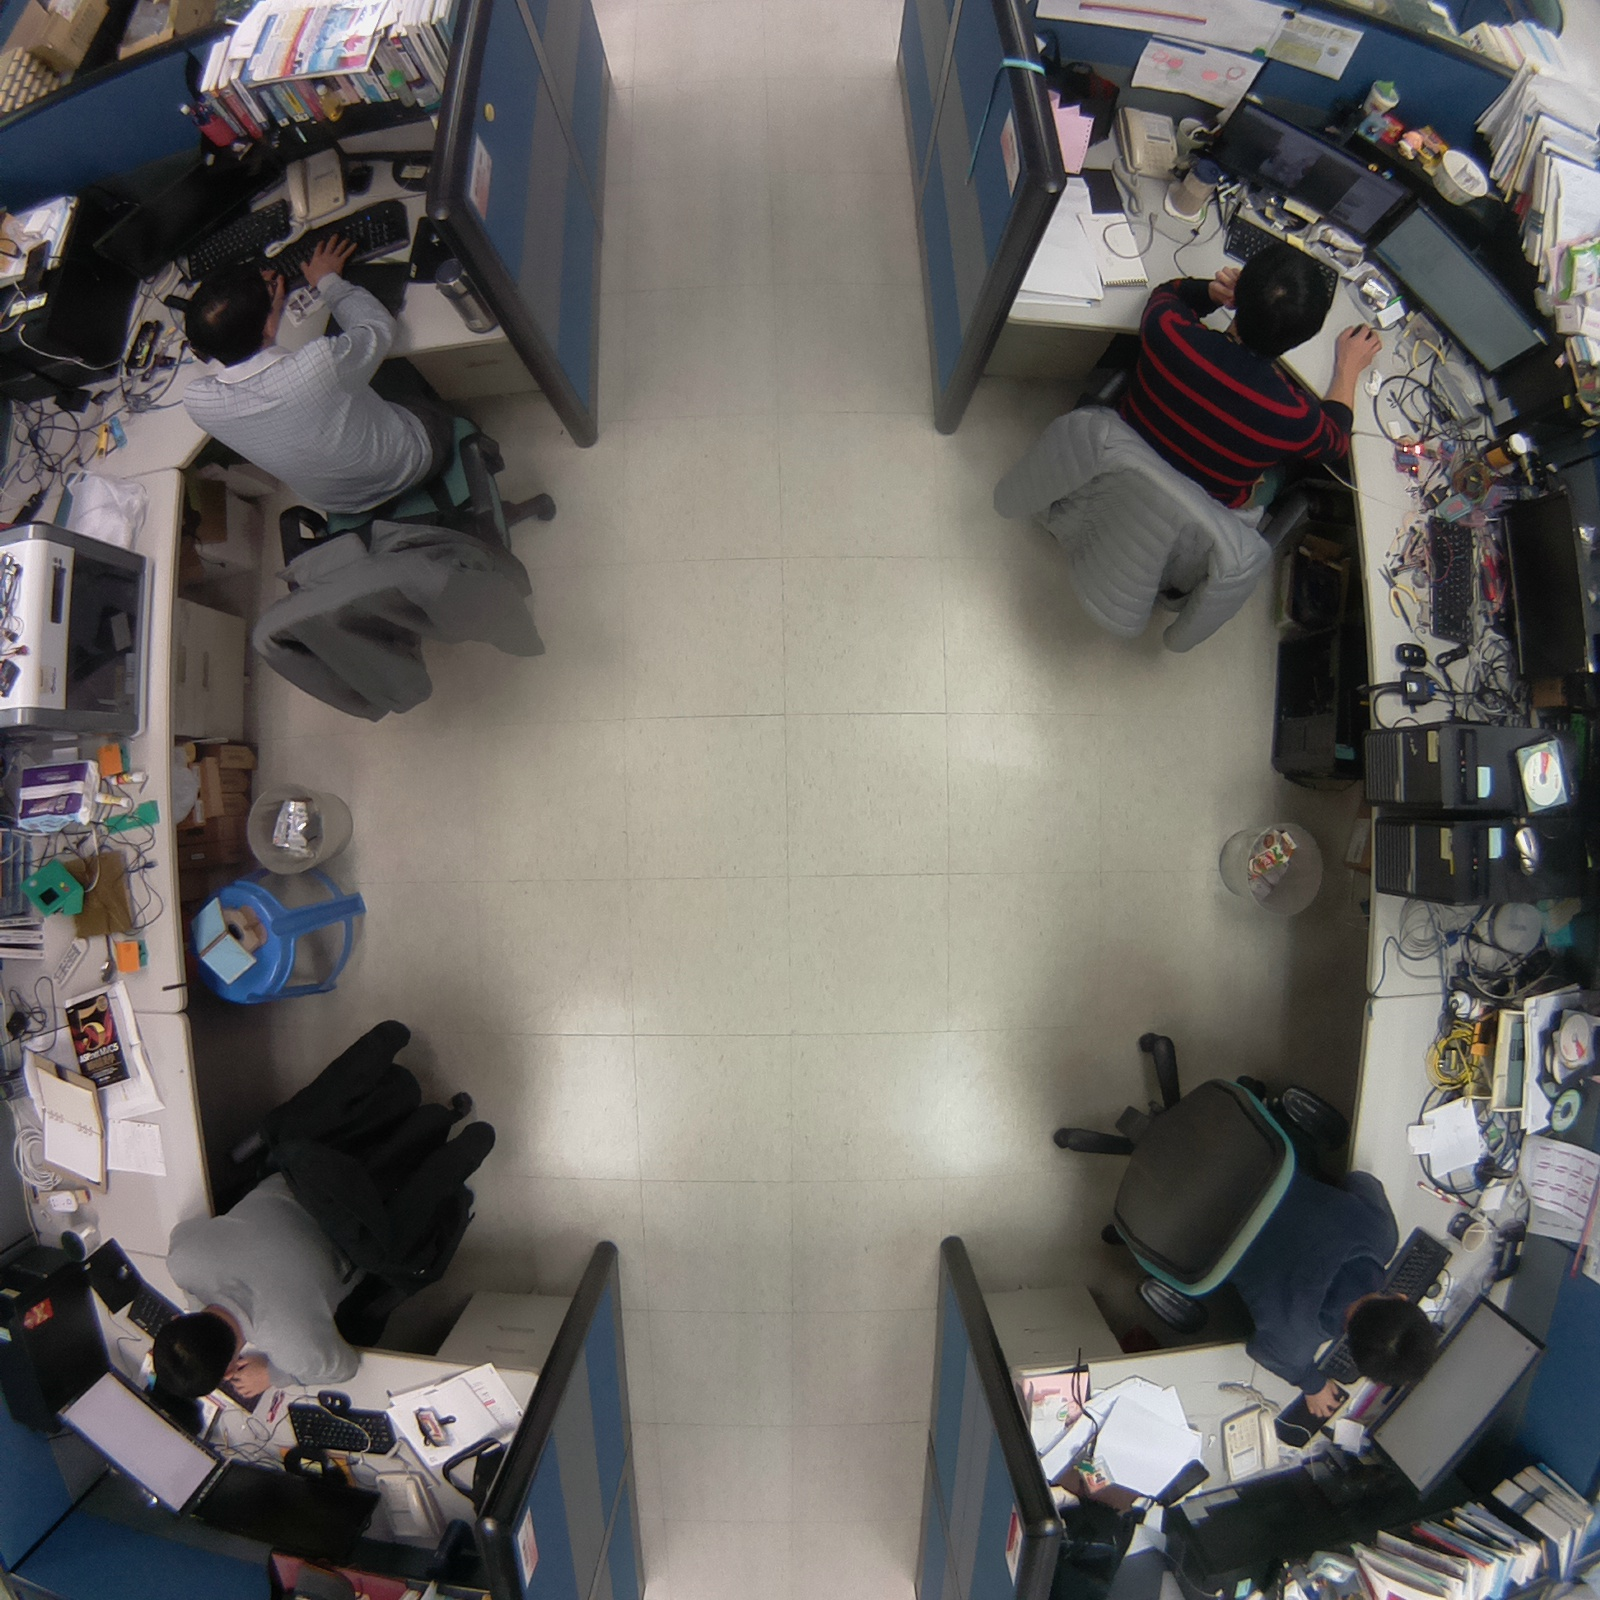sitting: (152, 215, 574, 738), (1023, 1015, 1453, 1442), (982, 229, 1393, 671), (127, 1002, 508, 1429)
